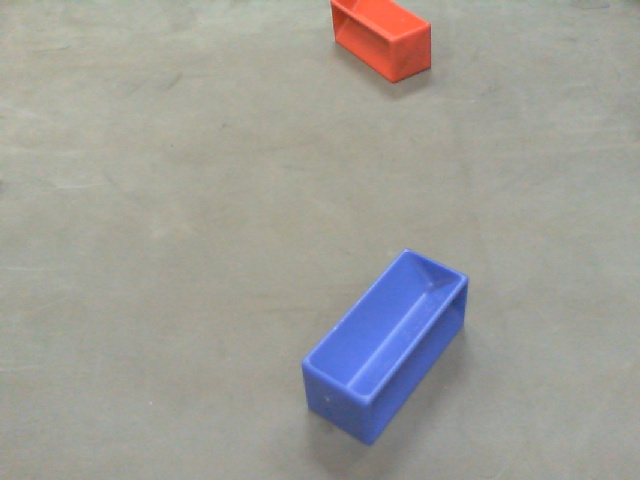BlueSample: (301, 248, 470, 449)
RedSample: (329, 1, 432, 83)
